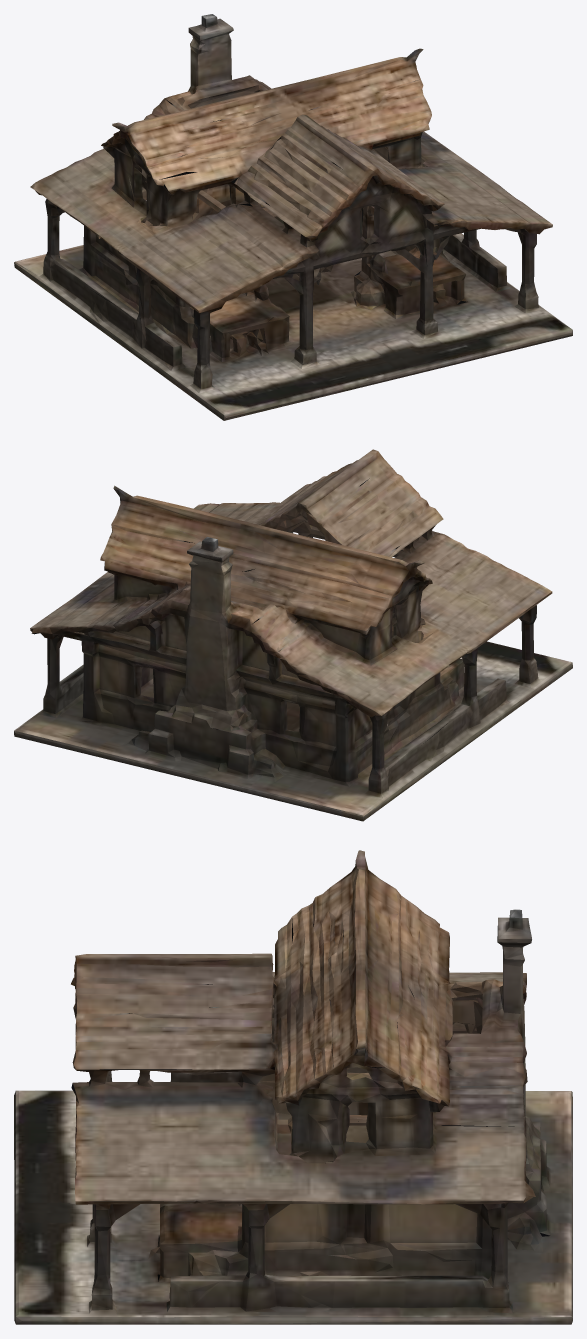
The model's file is tavern_wooden_long_lod0.glb.
3 renders of one model, top to bottom at view 1: azimuth 30°, elevation 25°; view 2: azimuth 150°, elevation 25°; view 3: azimuth 270°, elevation 25°, orthographic. The views are drawn at different scales.
Visible parts, largest first — view 1: tavern_wooden_long_lod0; view 2: tavern_wooden_long_lod0; view 3: tavern_wooden_long_lod0.
Part boxes in pixels (x1,y1,x2,y2): tavern_wooden_long_lod0: (14,14,572,420); tavern_wooden_long_lod0: (14,449,572,821); tavern_wooden_long_lod0: (14,850,572,1324).
Bounding box in the file's own units: 13.58 × 8.34 × 14.
Materials: 1 (1 with a texture image).
